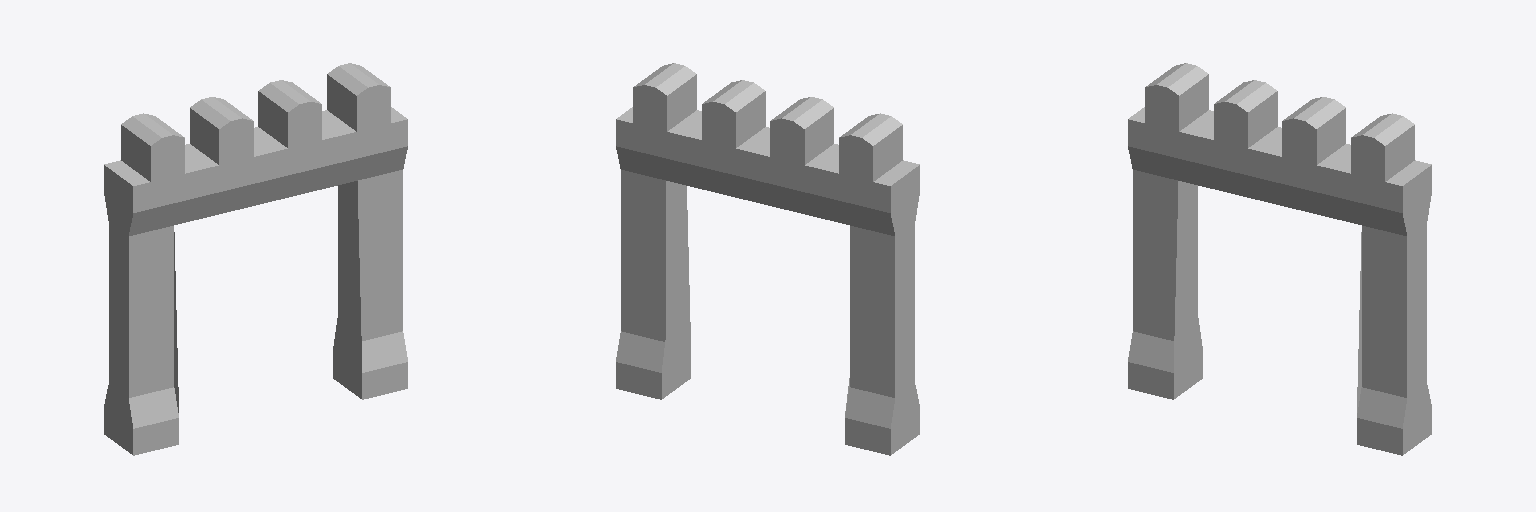
File: Gate.obj
The picture shows the model from 3 angles: view 1: azimuth 30°, elevation 25°; view 2: azimuth 150°, elevation 25°; view 3: azimuth 330°, elevation 25°; orthographic projection.
Visible parts, largest first — view 1: Plane_Plane.009; view 2: Plane_Plane.009; view 3: Plane_Plane.009.
Part boxes in pixels (left/top/right/bottom): Plane_Plane.009: left=104, top=63, right=407, bottom=455; Plane_Plane.009: left=616, top=63, right=919, bottom=455; Plane_Plane.009: left=1128, top=63, right=1431, bottom=455.
Size of the model in its own units: 16 by 17.3 by 3.